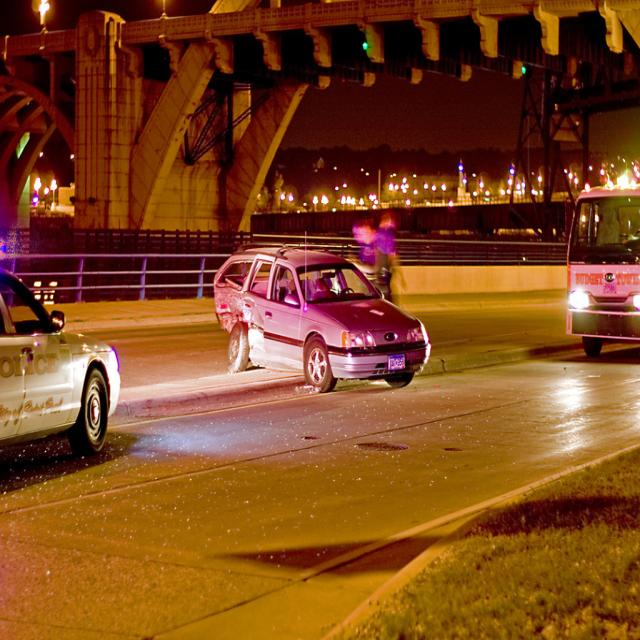crush: (213, 253, 275, 374)
